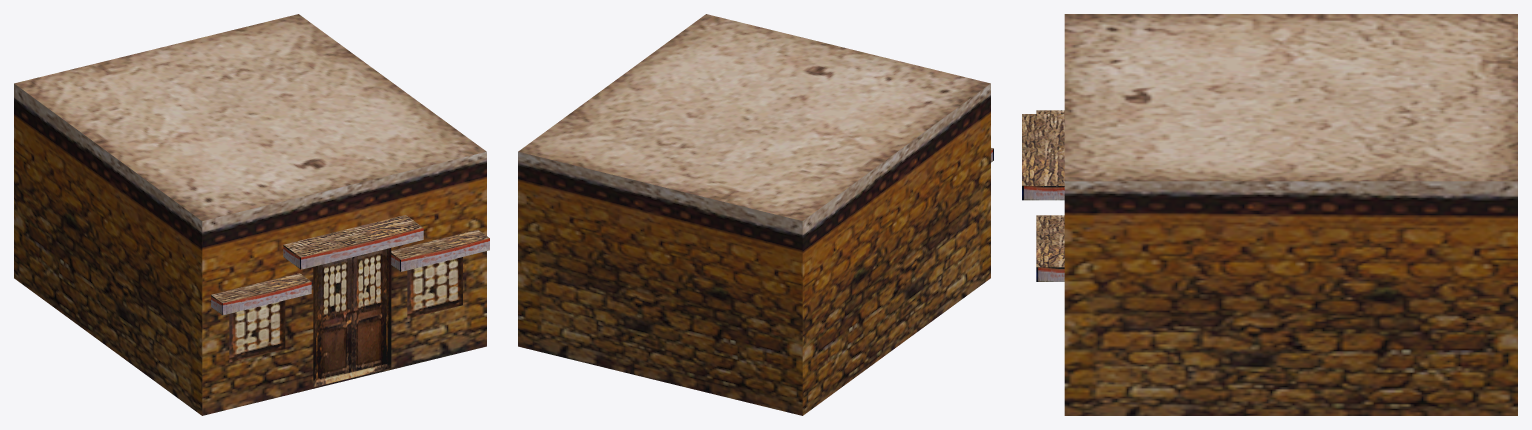
File: fanzi.fbx
3 views of the same model, side by side, from view 1: azimuth 30°, elevation 25°; view 2: azimuth 150°, elevation 25°; view 3: azimuth 270°, elevation 25° (orthographic). The views are drawn at different scales.
Parts seen in each view (by area): view 1: pCube14, pPlane5, pCube17, pPlane3, pPlane4, pCube15, pCube19; view 2: pCube14; view 3: pCube14, pCube17, pCube19.
Boxes of the visible parts, <box> form: pCube14: <box>14,14,486,415</box>; pPlane5: <box>313,248,391,387</box>; pCube17: <box>283,215,423,269</box>; pPlane3: <box>229,300,285,362</box>; pPlane4: <box>407,257,462,318</box>; pCube15: <box>211,273,311,315</box>; pCube19: <box>391,229,489,271</box>; pCube14: <box>518,14,990,415</box>; pCube14: <box>1064,14,1517,415</box>; pCube17: <box>1022,114,1064,200</box>; pCube19: <box>1036,215,1064,281</box>.
Size of the model in its own units: 14.13 by 9.24 by 17.7.
